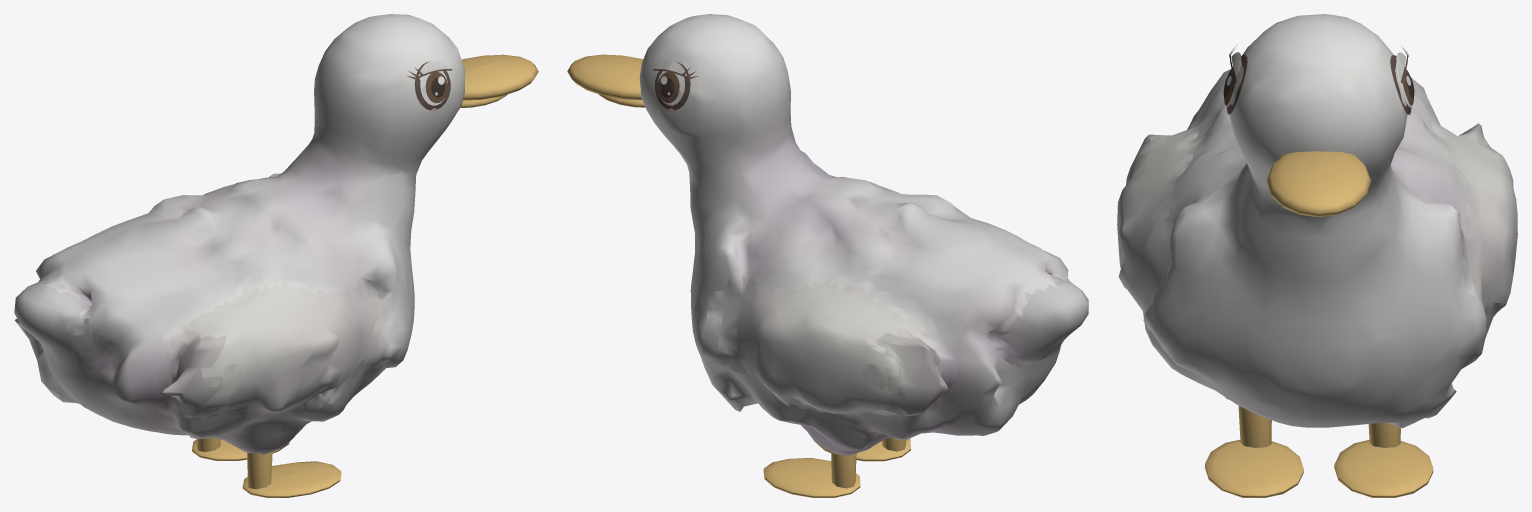
Rendered from duck.glb.
3 renders of one model, left to right at view 1: azimuth 30°, elevation 25°; view 2: azimuth 150°, elevation 25°; view 3: azimuth 270°, elevation 25°, orthographic. The views are drawn at different scales.
Visible parts, largest first — view 1: duck; view 2: duck; view 3: duck.
Part boxes in pixels (<box>): duck: <box>14,14,538,497</box>; duck: <box>567,14,1088,497</box>; duck: <box>1117,14,1517,497</box>.
Size of the model in its own units: 0.5596 by 0.4329 by 0.2967.
